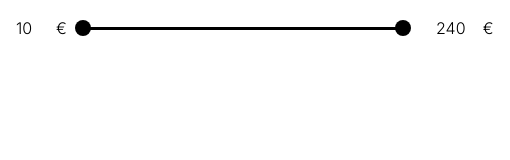
Test: Range component in excercise 1 › Moves right dot
Press the mouse on the button with test id "right-dot" at (403, 28), box [395, 20, 411, 36]
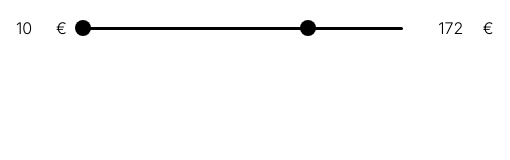
Check: the number field with test id "input-right" holds "172", box [419, 16, 483, 40]
Press the mouse on the button with test id "right-dot" at (308, 28), box [300, 20, 316, 36]
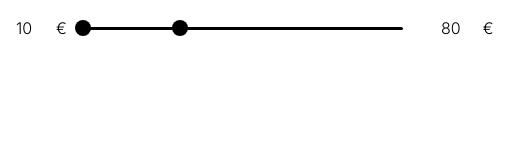
Check: the number field with test id "input-right" holds "80", box [419, 16, 483, 40]
